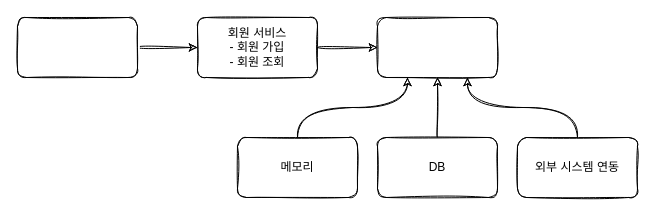
Image size: 655x215. Some labels were removed from this diagram. The shapes that lost their labels are listed below. From the top down, each one's box as (x1, y1, x2, y2) in pixels, then its label:
(16, 16, 138, 78): 클라이언트
(376, 16, 498, 78): 회원 저장소
